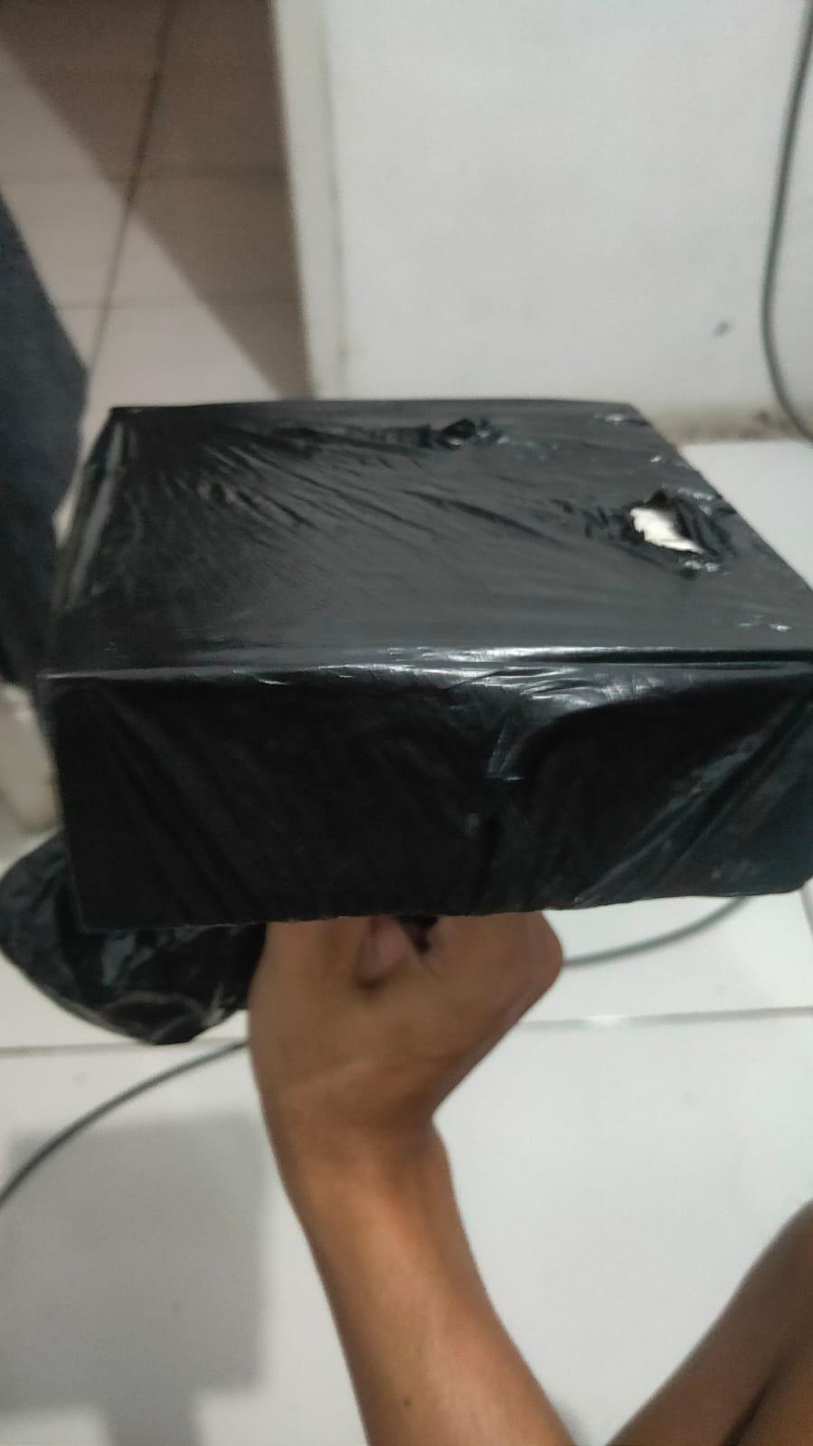damaged package: (604, 486, 731, 570), (411, 412, 488, 450)
undamaged: (15, 387, 811, 950)
